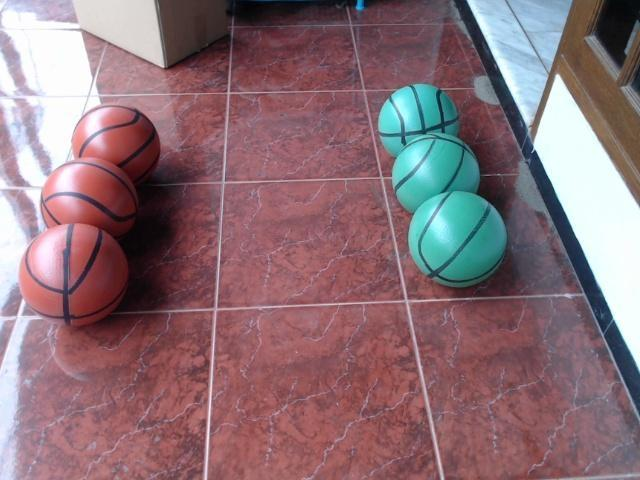Sports-Ball: (17, 221, 136, 334), (411, 188, 513, 293), (33, 160, 143, 244), (71, 102, 167, 185), (391, 138, 485, 214), (371, 82, 463, 158)
